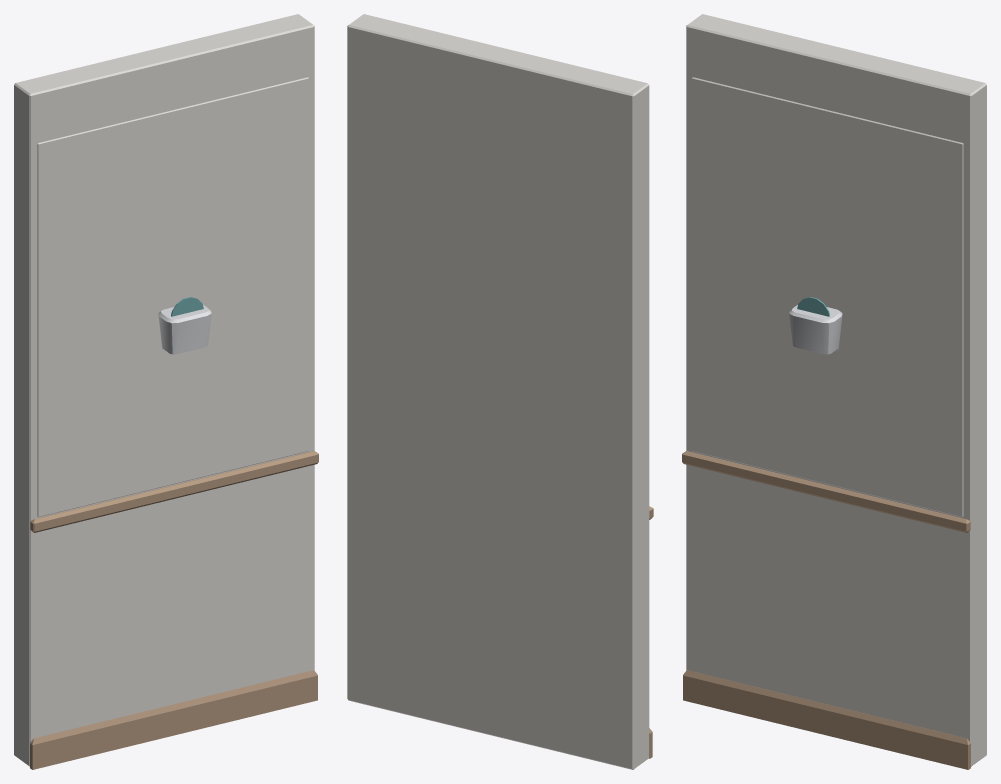
Rendered from hotel-and-resort-operations-corridor-wall-module-139bc97e__25815.glb.
The picture shows the model from 3 angles, left to right: view 1: azimuth 30°, elevation 25°; view 2: azimuth 150°, elevation 25°; view 3: azimuth 330°, elevation 25°; orthographic projection.
Visible parts, largest first — view 1: corridor-wall-module; view 2: corridor-wall-module; view 3: corridor-wall-module.
Part boxes in pixels (left/top/right/bottom): corridor-wall-module: left=14, top=14, right=318, bottom=769; corridor-wall-module: left=347, top=14, right=653, bottom=769; corridor-wall-module: left=682, top=14, right=986, bottom=769.
Size of the model in its own units: 1.2 by 2.7 by 0.2689.
